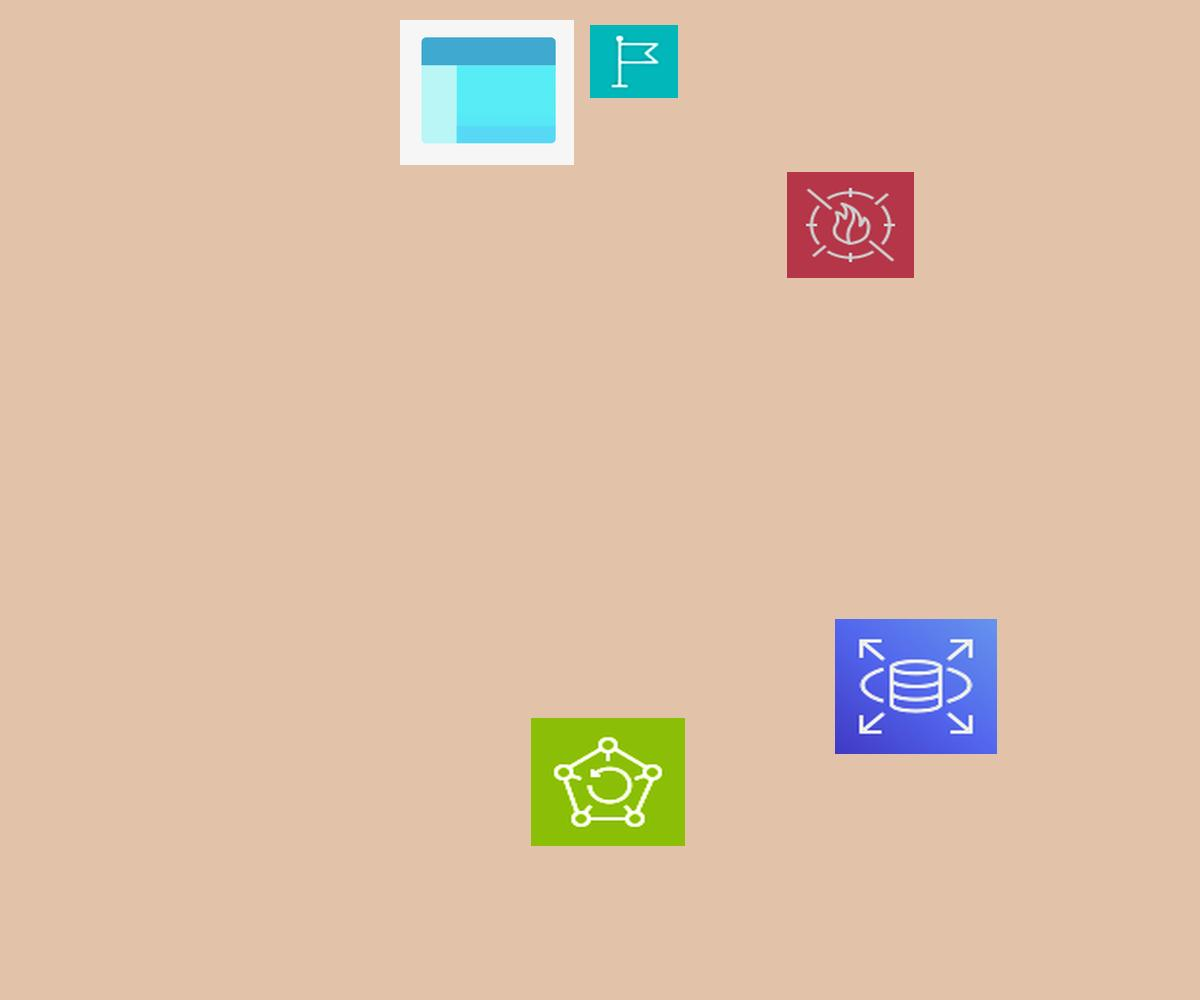AWS-Backup: (531, 718, 685, 846)
AWS-RDS: (835, 619, 997, 754)
AWS-Region: (590, 25, 678, 98)
AWS-WAF: (787, 172, 914, 278)
Azure_management-portal: (400, 20, 574, 165)
